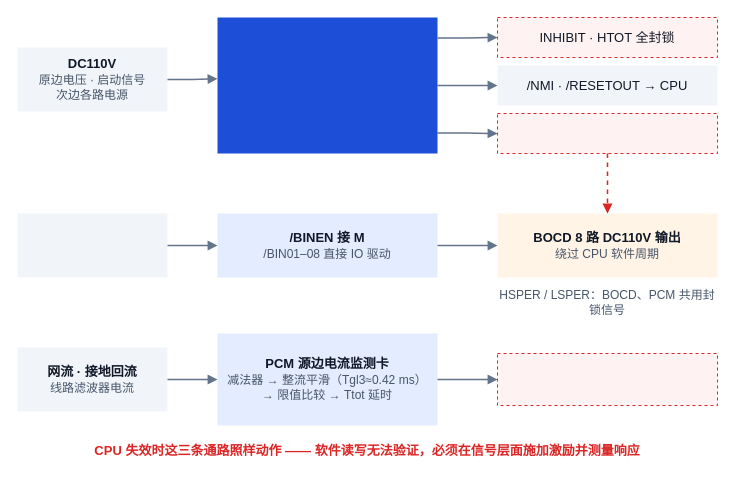
Some shapes in this 735 by 485 pixel diagram are drawn without their labels. The shapes that lost their labels are listed below. From the top down, each one's centre as x and y in pixels, then its label:
the point at 327,85: PSU 电源启动监测卡 FPGA 六通道欠压监测 P24/N24/UZ 可移除、门槛可调 P5/P15/N15 固定
the point at 607,133: ASA 禁止：切断 BOCD 供电
the point at 92,245: ICBP 输出 或 IOM 数字输出
the point at 607,379: 分主断 硬件触发，无需 CPU
